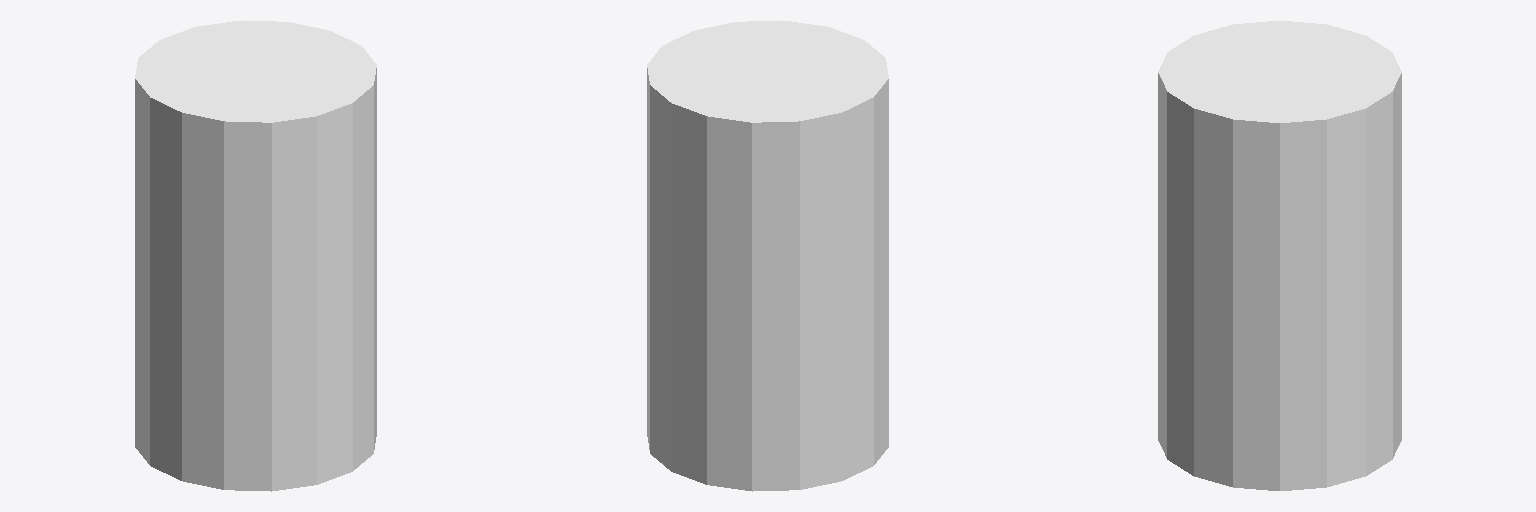
robot.urdf — apple.urdf:
<?xml version="0.0" ?>
<robot name="apple.urdf">
  <link name="baseLink">
    <contact>
      <lateral_friction value="0.3"/>
      <stiffness value="10000.0"/>
    </contact>
    <inertial>
      <origin rpy="0 0 0" xyz="0 0 0"/>
       <mass value="0.1"/>
       <inertia ixx="1" ixy="0" ixz="0" iyy="1" iyz="0" izz="1"/>
    </inertial>
    <visual>
      <origin rpy="0 0 0" xyz="0 0 0"/>
      <geometry>
            <mesh filename="can.stl" scale="0.001 0.001 0.001"/>
      </geometry>
       <material name="white">
        <color rgba="1 1 1 1"/>
      </material>
    </visual>
    <collision>
      <origin rpy="0 0 0" xyz="0 0 0"/>
      <geometry>
	 	<mesh filename="can.stl" scale="0.001 0.001 0.001"/>
      </geometry>
    </collision>
  </link>  
</robot>

--- What the picture shows (computed from the rendered views, not written in the file) ---
3 views of the same robot in one strip: view 1: azimuth 30°, elevation 25°; view 2: azimuth 150°, elevation 25°; view 3: azimuth 270°, elevation 25° (orthographic).
Model apple.urdf with 1 links and 0 joints (none), rooted at baseLink, posed all joints at 0.
Links seen in each view (by area): view 1: baseLink; view 2: baseLink; view 3: baseLink.
Link boxes in pixels (x1,y1,x2,y2): baseLink: (135, 20, 376, 491); baseLink: (647, 20, 888, 491); baseLink: (1158, 21, 1401, 490).
Size in the robot's own frame: 0.057 by 0.057 by 0.095 metres.
Meshes: 1 distinct files referenced, 1 mesh visuals loaded (1 binary STL).